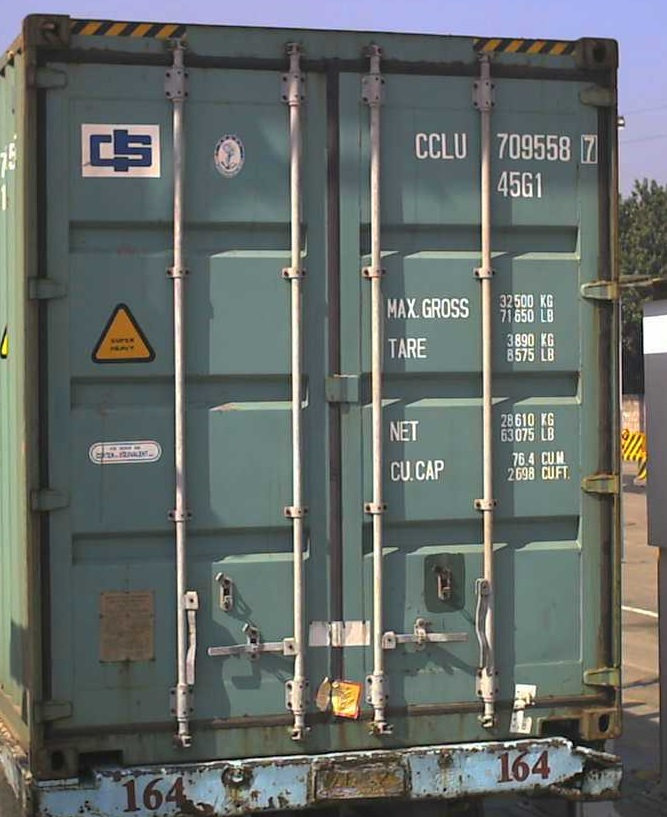container_door: (19, 20, 618, 767)
